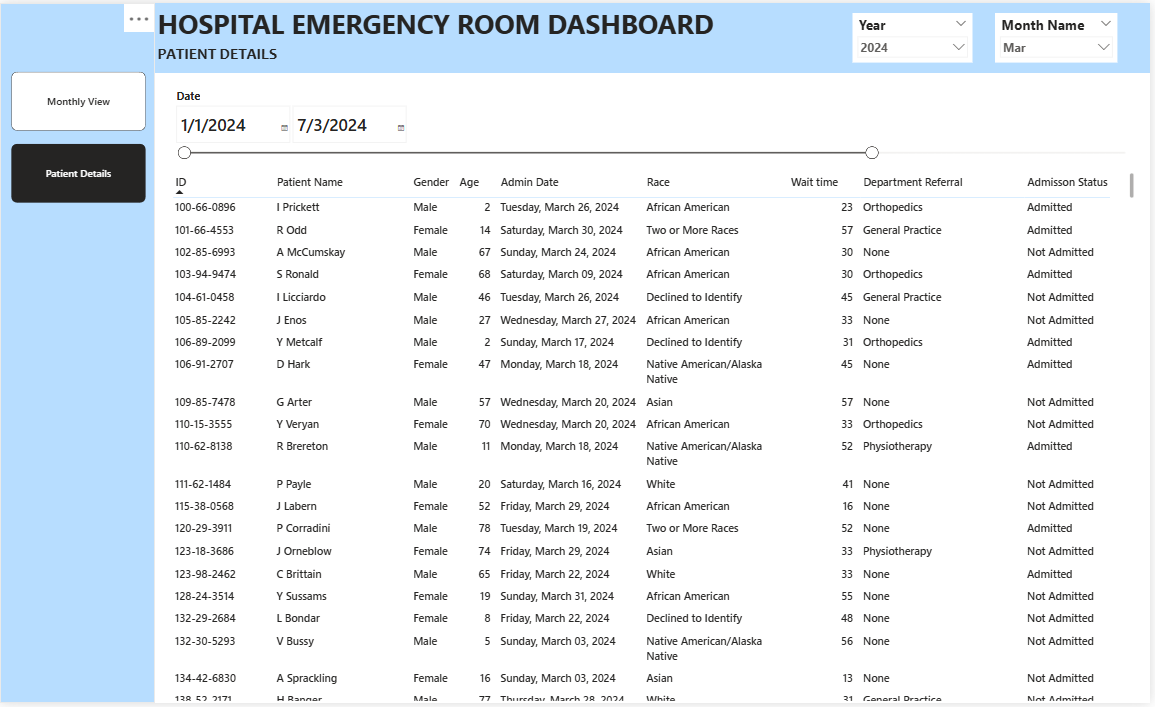

This screenshot's page, from the dashboard's own definition file:
{"tool":"powerbi","page":{"name":"Patient Details","canvas":[2300,1400],"ordinal":1},"visuals":[{"type":"shape","box":[0,0,310,1400],"z":0},{"type":"shape","box":[310.3,0,1990.7,140],"z":1000},{"type":"textbox","box":[310.3,0,1299.1,115.7],"z":2000},{"type":"textbox","box":[310.3,76.3,299.8,63.1],"z":3000},{"type":"slicer","fields":{"Values":["Date Table.Year"]},"box":[1705.5,19.8,240.1,99],"z":4000},{"type":"slicer","fields":{"Values":["Date Table.Month Name"]},"box":[1990.2,19.8,245.1,99],"z":5000},{"type":"slicer","fields":{"Values":["Date Table.Date"]},"box":[339.1,165.8,1933.2,168.3],"z":6000},{"type":"tableEx","fields":{"Values":["Hospital ER_Data.Patient Id","Hospital ER_Data.Patient Full Name","Hospital ER_Data.Patient Gender","Sum(Hospital ER_Data.Patient Age)","Hospital ER_Data.Patient Admin Date","Hospital ER_Data.Patient Race","Sum(Hospital ER_Data.Patient Waittime)","Hospital ER_Data.Department Referral","Hospital ER_Data.Admisson Status"]},"box":[339,334,1933,1066],"z":7000},{"type":"pageNavigator","box":[22.3,138.6,269.8,262.4],"z":8000}]}

Visuals, with their boxes in screenshot pixels (x1, y1, x2, y2), scaled from the page's 2300x1400 canvas onto the 1155x707 screenshot:
shape: box(0, 0, 156, 706)
shape: box(156, 0, 1154, 71)
textbox: box(156, 0, 808, 58)
textbox: box(156, 39, 306, 70)
slicer - Date Table.Year: box(856, 10, 977, 60)
slicer - Date Table.Month Name: box(999, 10, 1123, 60)
slicer - Date Table.Date: box(170, 84, 1141, 169)
tableEx - Hospital ER_Data.Patient Id x Hospital ER_Data.Patient Full Name: box(170, 169, 1141, 706)
pageNavigator: box(11, 70, 147, 203)
